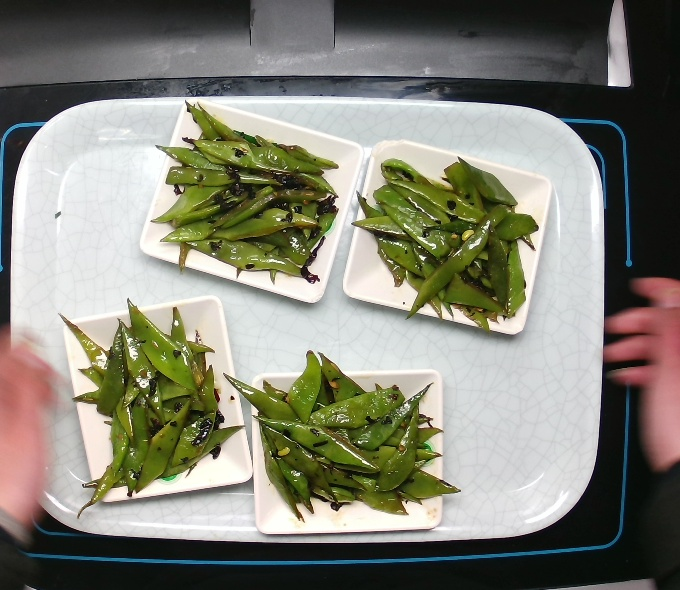wcq-ChaoSiJiDou: (223, 346, 466, 525), (49, 295, 250, 510), (144, 91, 344, 295), (350, 153, 543, 336)
